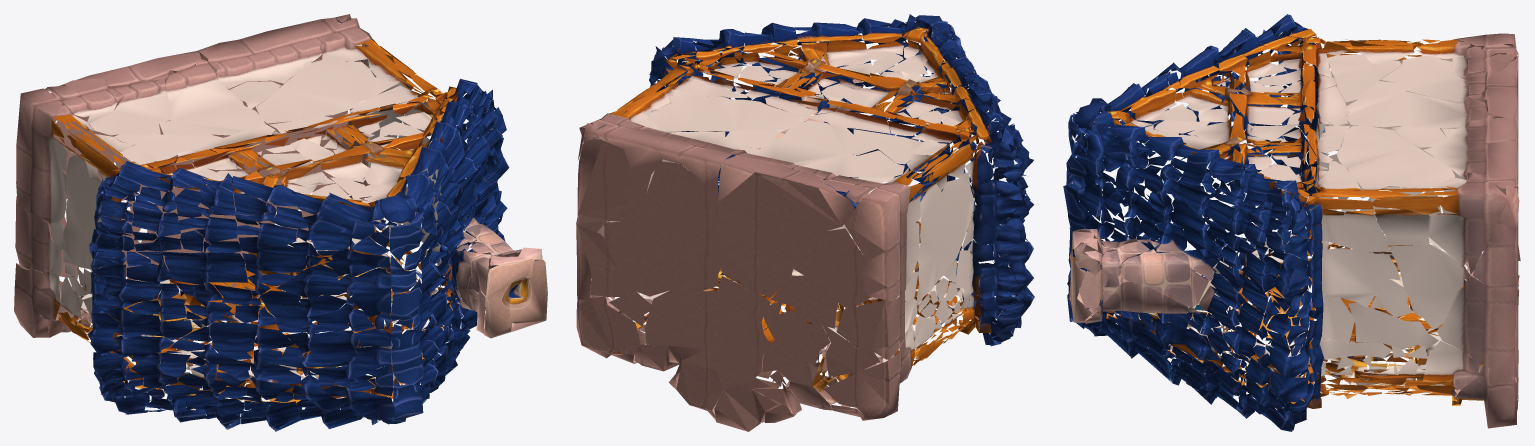
File: cozy_cottage_v1.glb
3 views of the same model, side by side, from view 1: azimuth 30°, elevation 25°; view 2: azimuth 150°, elevation 25°; view 3: azimuth 270°, elevation 25° (orthographic). The views are drawn at different scales.
Visible parts, largest first — view 1: Mesh_0; view 2: Mesh_0; view 3: Mesh_0.
Part boxes in pixels (x1,y1,x2,y2): Mesh_0: [14, 14, 547, 431]; Mesh_0: [576, 14, 1034, 431]; Mesh_0: [1063, 14, 1520, 431].
Size of the model in its own units: 1.91 by 1.3 by 1.81.
Materials: 1 (1 with a texture image).
